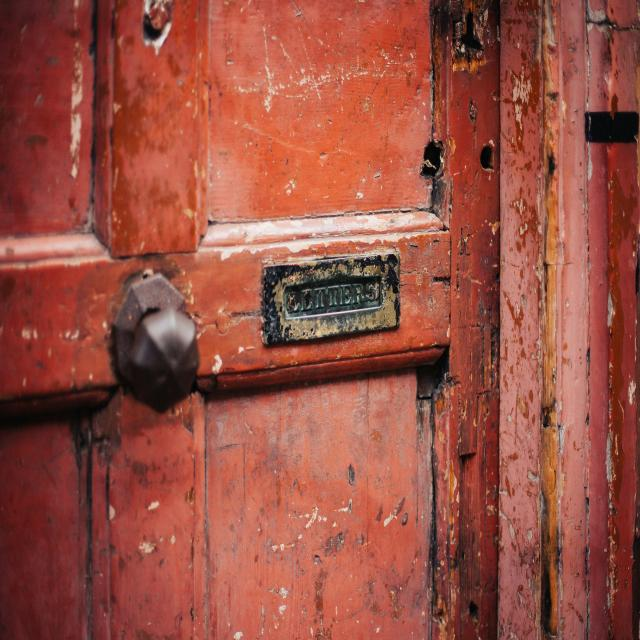door-knob: (114, 274, 200, 412)
